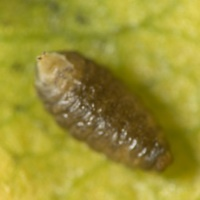insect: (35, 52, 171, 170)
